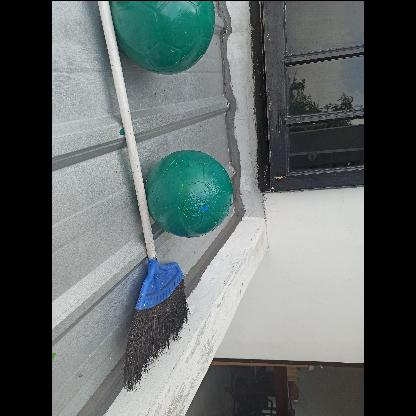green_ball: (110, 1, 223, 71), (146, 149, 234, 237)
